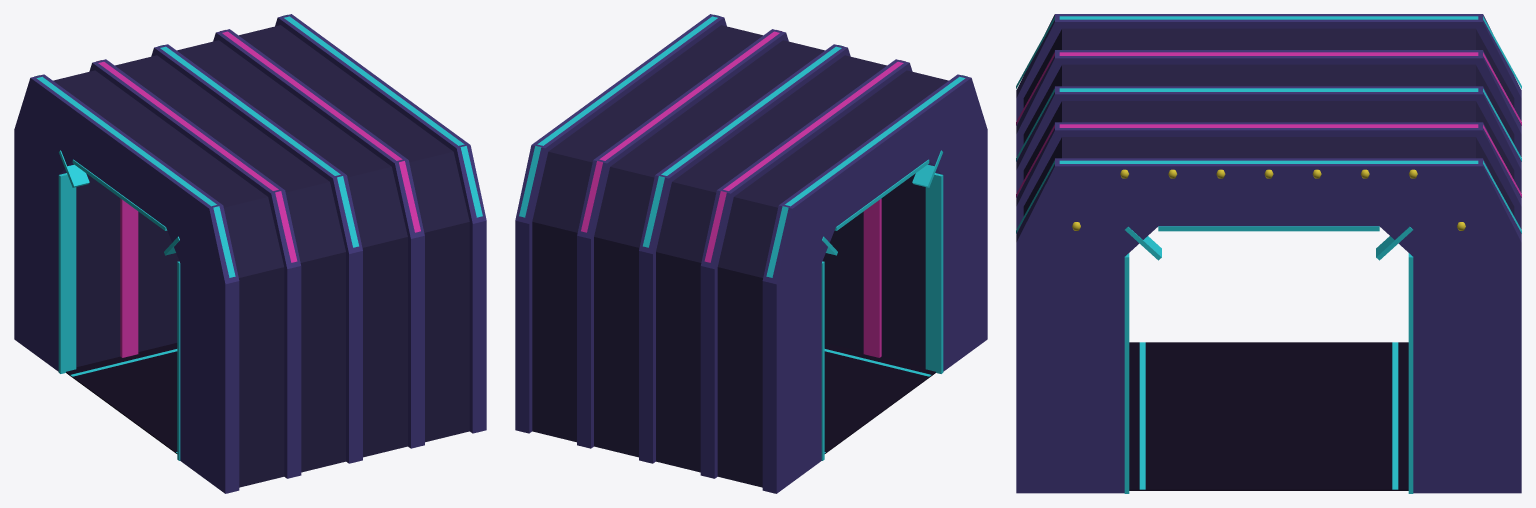
File: neon-cave.glb
3 views of the same model, side by side, from view 1: azimuth 30°, elevation 25°; view 2: azimuth 150°, elevation 25°; view 3: azimuth 270°, elevation 25° (orthographic). The views are drawn at different scales.
Parts seen in each view (by area): view 1: neon-cave; view 2: neon-cave; view 3: neon-cave.
Part boxes in pixels (x1,y1,x2,y2): neon-cave: (14,14,486,493); neon-cave: (515,14,987,493); neon-cave: (1016,14,1521,493).
Bounding box in the file's own units: 3.03 × 3 × 4.21.
